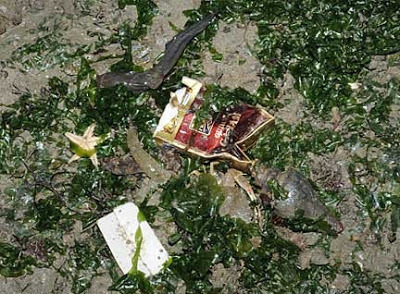litter: (154, 77, 275, 163), (94, 202, 171, 278)
